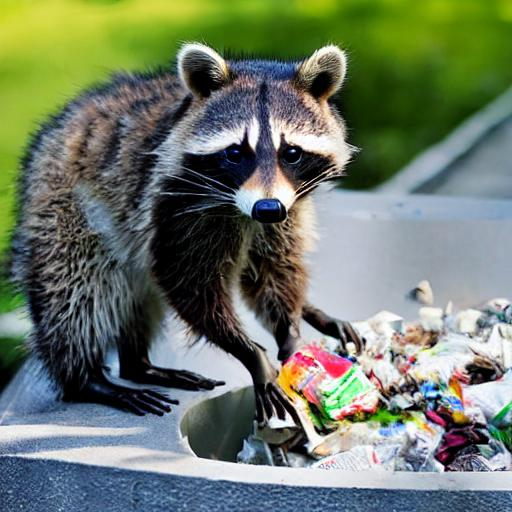raccoon: (0, 33, 370, 378)
